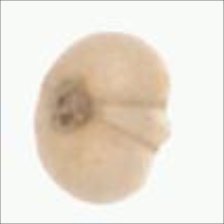L5: (97, 99, 172, 154), (48, 75, 97, 136)
L6: (31, 29, 172, 206)
